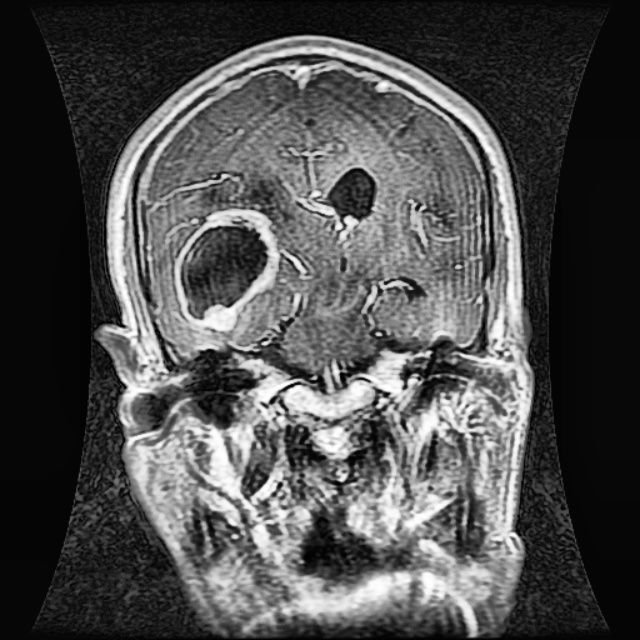Glioma: (174, 208, 279, 330)
